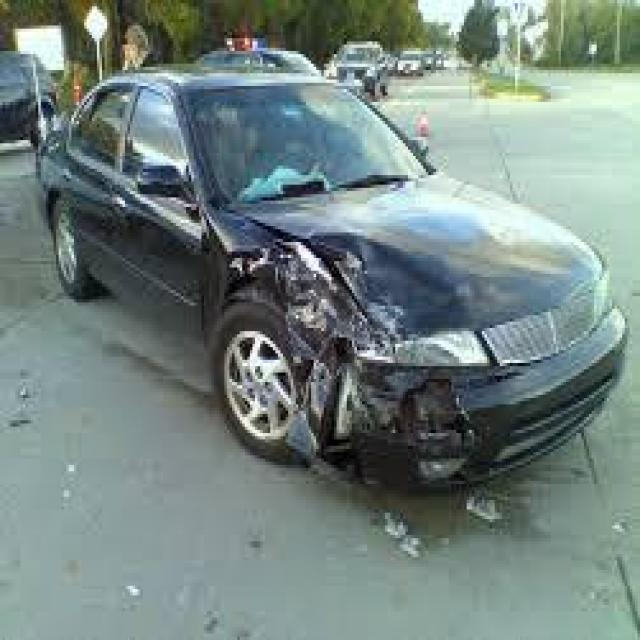damaged: (220, 236, 480, 487)
